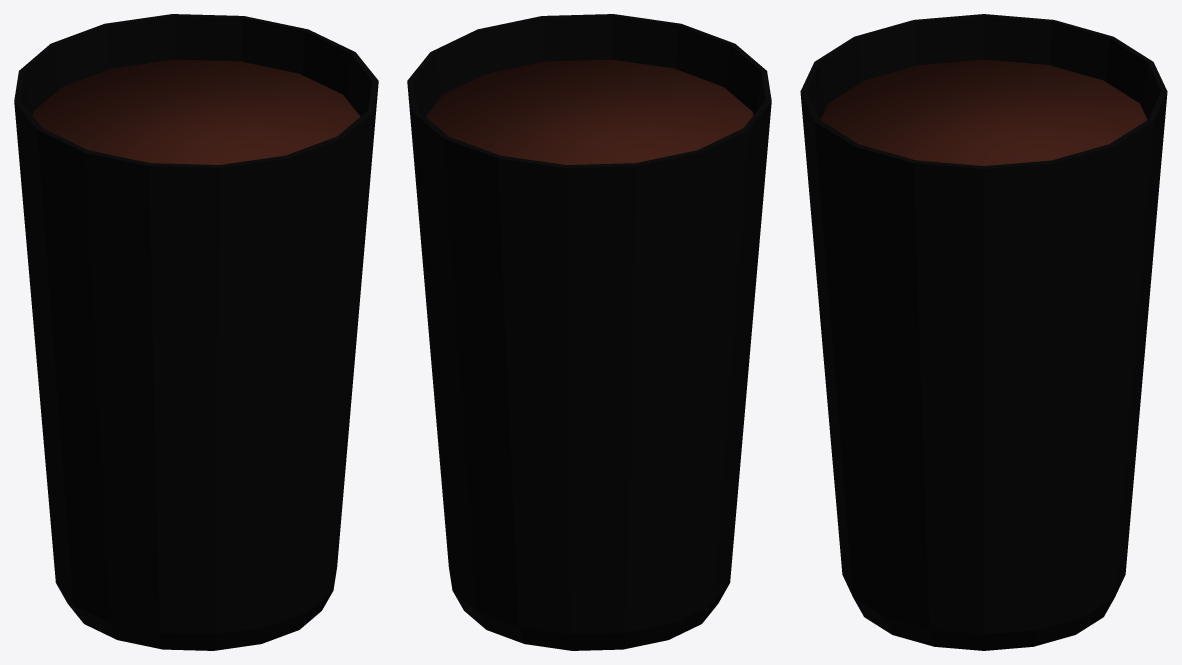
The model's file is Glass(cola).fbx.
The picture shows the model from 3 angles, left to right: view 1: azimuth 30°, elevation 25°; view 2: azimuth 150°, elevation 25°; view 3: azimuth 270°, elevation 25°; orthographic projection.
Visible parts, largest first — view 1: Glass(empty), cola; view 2: Glass(empty), cola; view 3: Glass(empty), cola.
Boxes of the visible parts, x1,y1,x2,y2 form: Glass(empty): (14,14,378,650); cola: (32,59,360,164); Glass(empty): (407,14,771,650); cola: (425,59,753,164); Glass(empty): (800,14,1167,650); cola: (820,59,1147,165).
Bounding box in the file's own units: 60.03 × 92.2 × 60.03.
